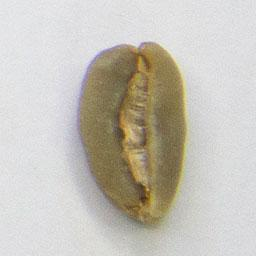longberry: (75, 37, 189, 217)
